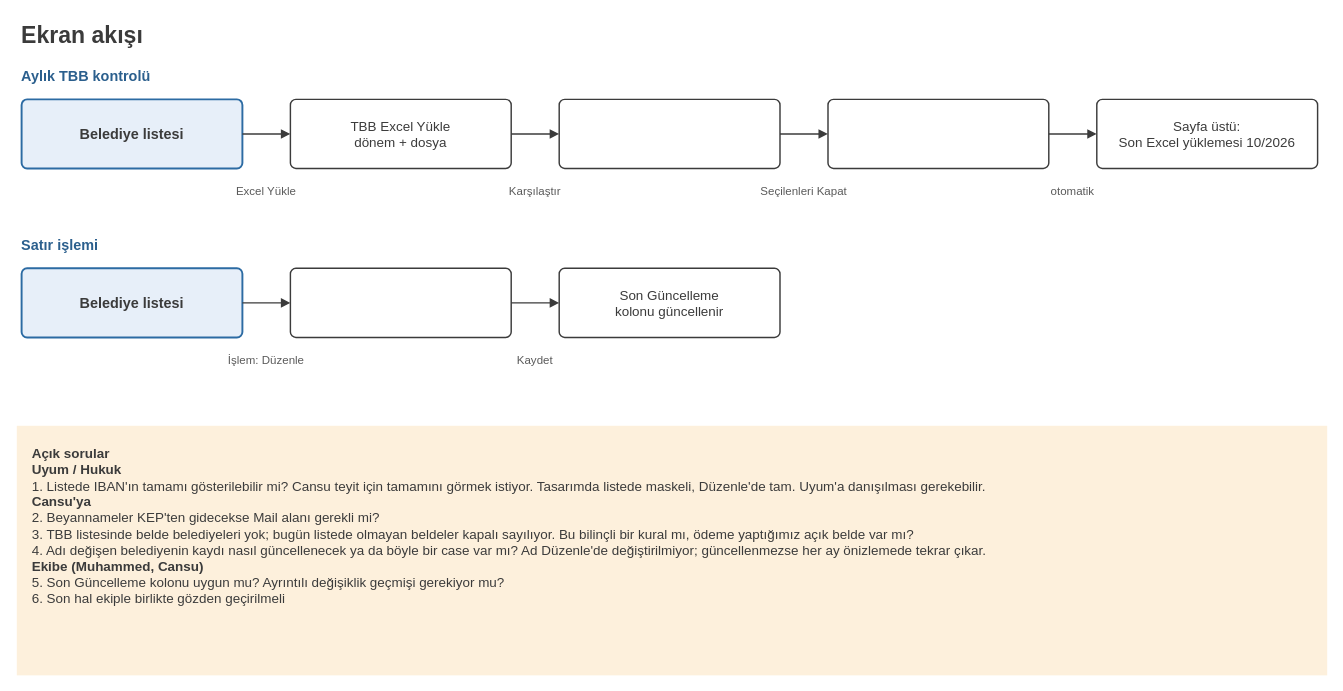
Image size: 1343x691. Some labels were removed from this diagram. Here are the shapes that lost their labels. From the top down, the centre of each, then its label:
At [669,133]: "Kapatılacak belediyeler önizleme ve onay".
At [938,133]: "Kapananlar gri; ödeme merkeze".
At [400,302]: "Düzenle penceresi Web Gönderimi, IBAN, KEP, Mail".
